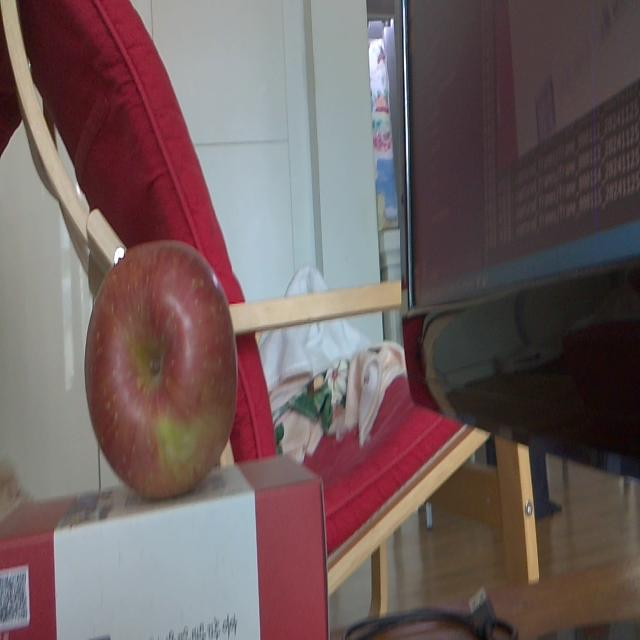apple: (85, 240, 237, 495)
